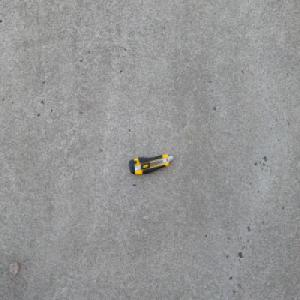Cutter: (128, 153, 173, 175)
